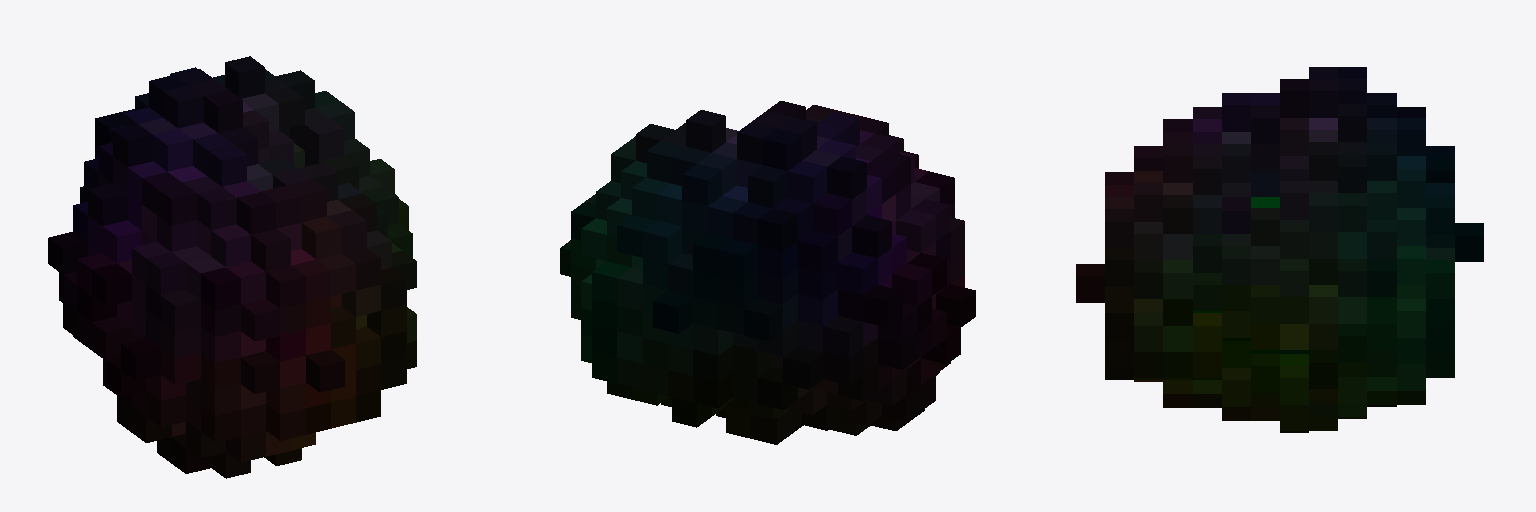
The model's file is iter_20.obj.
3 views of the same model, side by side, from view 1: azimuth 30°, elevation 25°; view 2: azimuth 150°, elevation 25°; view 3: azimuth 270°, elevation 25° (orthographic).
Visible parts, largest first — view 1: iter_20; view 2: iter_20; view 3: iter_20.
Part boxes in pixels (bbox=[...]): iter_20: bbox=[48, 56, 416, 478]; iter_20: bbox=[560, 101, 975, 444]; iter_20: bbox=[1076, 67, 1483, 432].
Bounding box in the file's own units: 1.3 × 1.2 × 1.4.